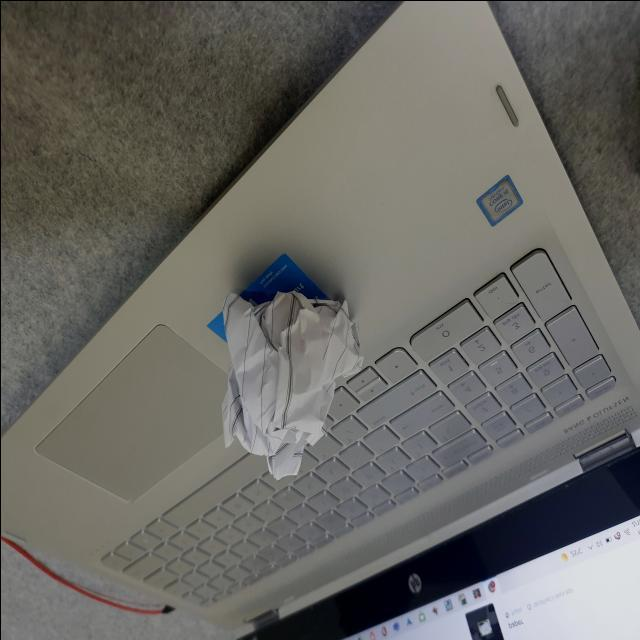Paper: (203, 283, 367, 478)
